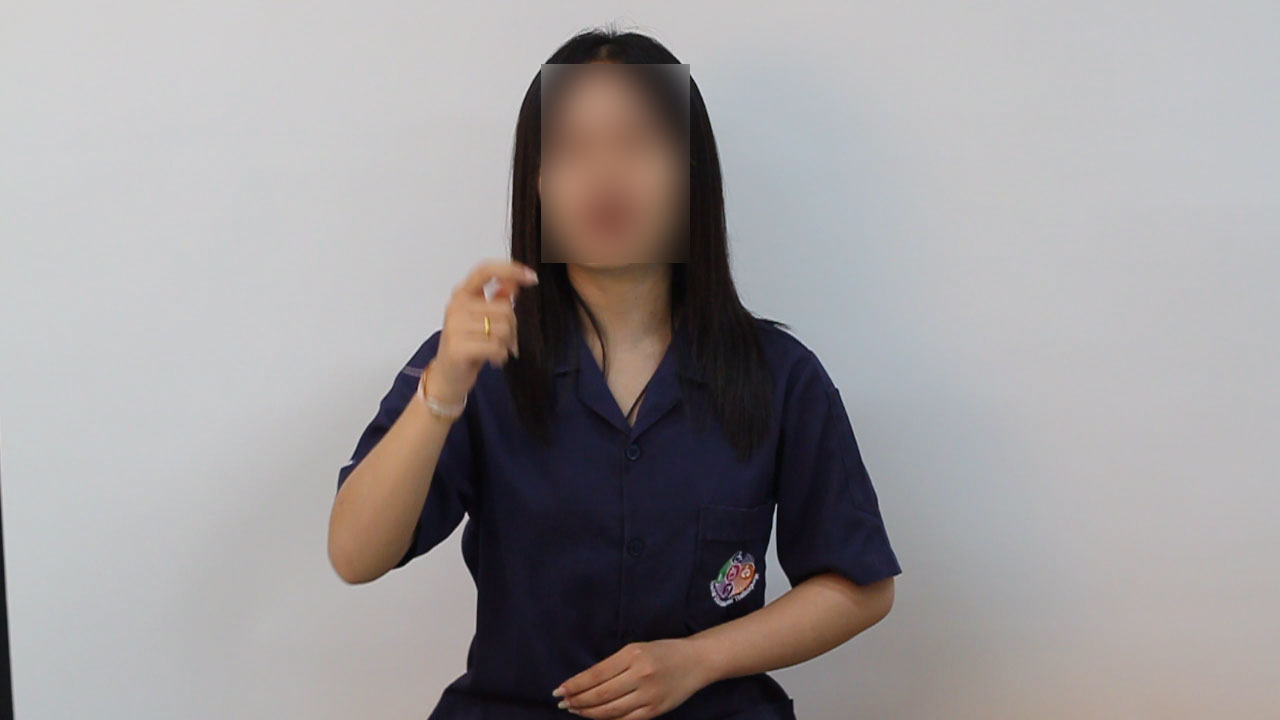or: (433, 252, 545, 402)
